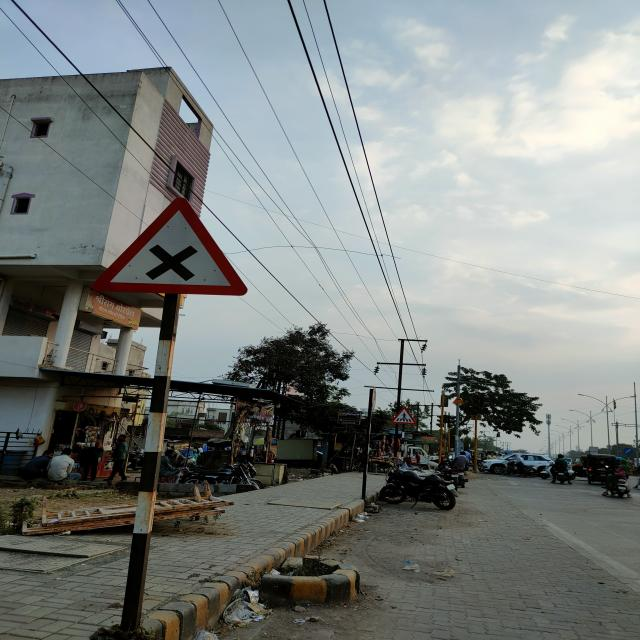cross_road: (92, 197, 249, 298)
